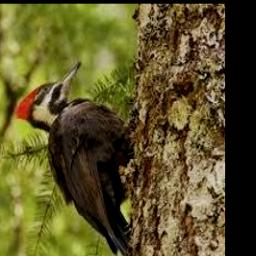Woodpecker: (15, 61, 135, 256)
